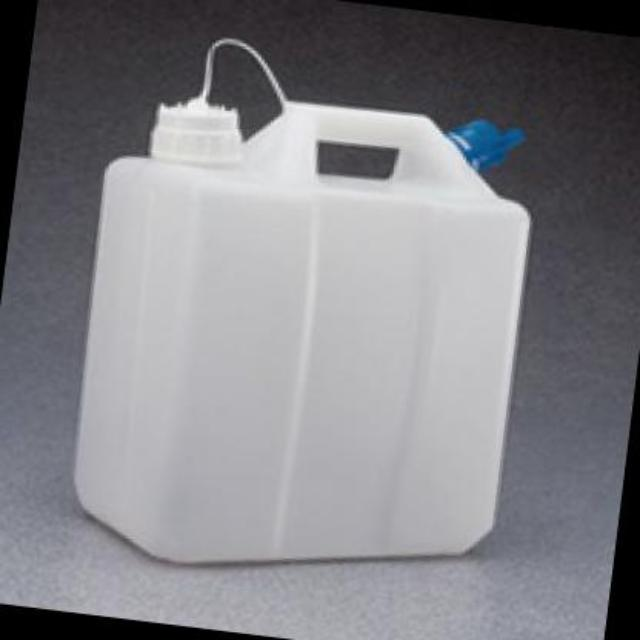chemical_plastic_gallon: (38, 41, 566, 602)
